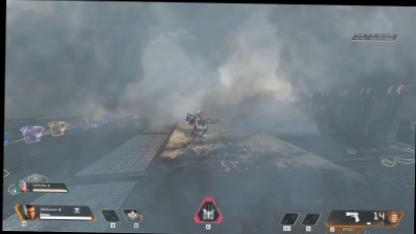Target: (190, 110, 212, 138)
